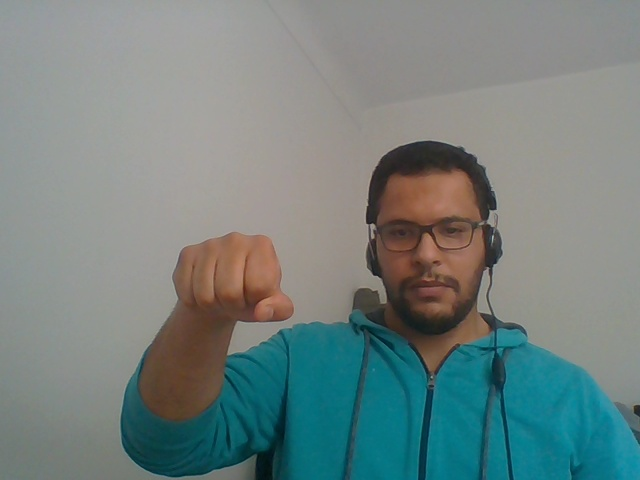yes: (158, 199, 313, 364)
